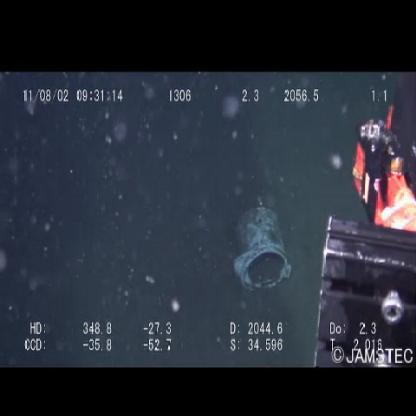Rác: (233, 202, 292, 291)
